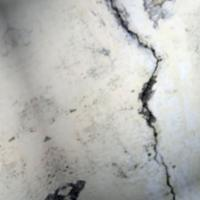crack: (102, 0, 179, 199)
